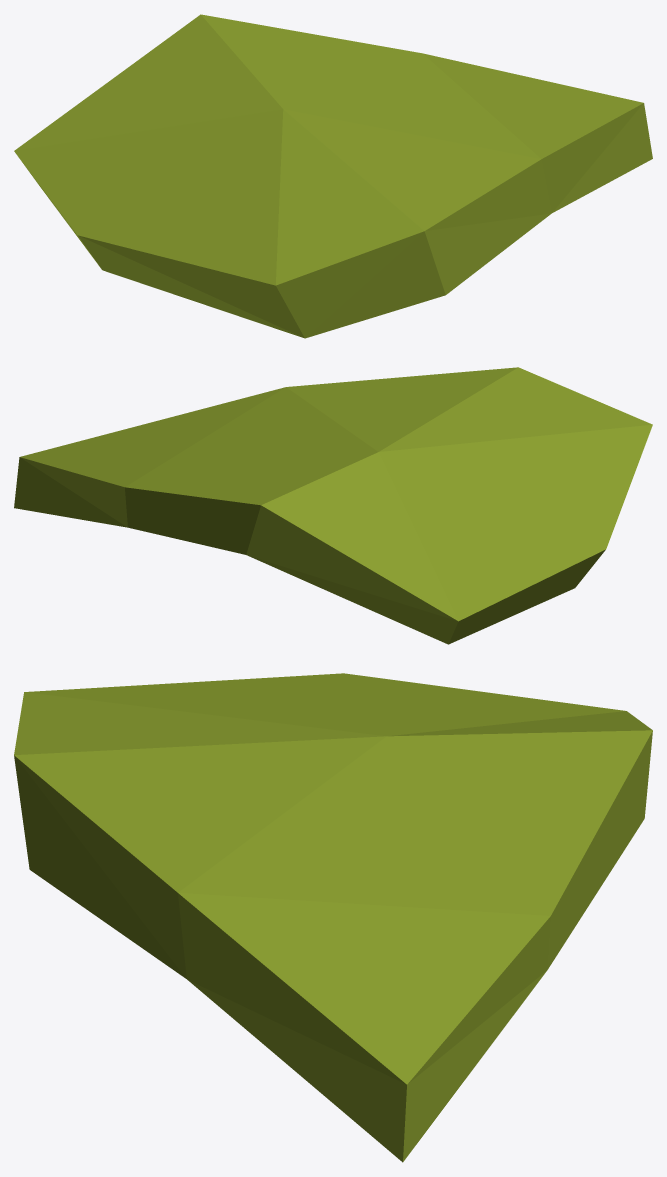
File: EA_M_Env_Leaf_02a.fbx
3 views of the same model, one above another, from view 1: azimuth 30°, elevation 25°; view 2: azimuth 150°, elevation 25°; view 3: azimuth 270°, elevation 25° (orthographic). The views are drawn at different scales.
Parts seen in each view (by area): view 1: EA_M_Env_Leaf_02a_LOD0.001; view 2: EA_M_Env_Leaf_02a_LOD0.001; view 3: EA_M_Env_Leaf_02a_LOD0.001.
Boxes of the visible parts, x1,y1,x2,y2 form: EA_M_Env_Leaf_02a_LOD0.001: (14,14,652,338); EA_M_Env_Leaf_02a_LOD0.001: (14,367,652,644); EA_M_Env_Leaf_02a_LOD0.001: (14,673,652,1162).
Size of what is drawn, in the model's own units: 0.4708 by 0.1207 by 0.3366.
